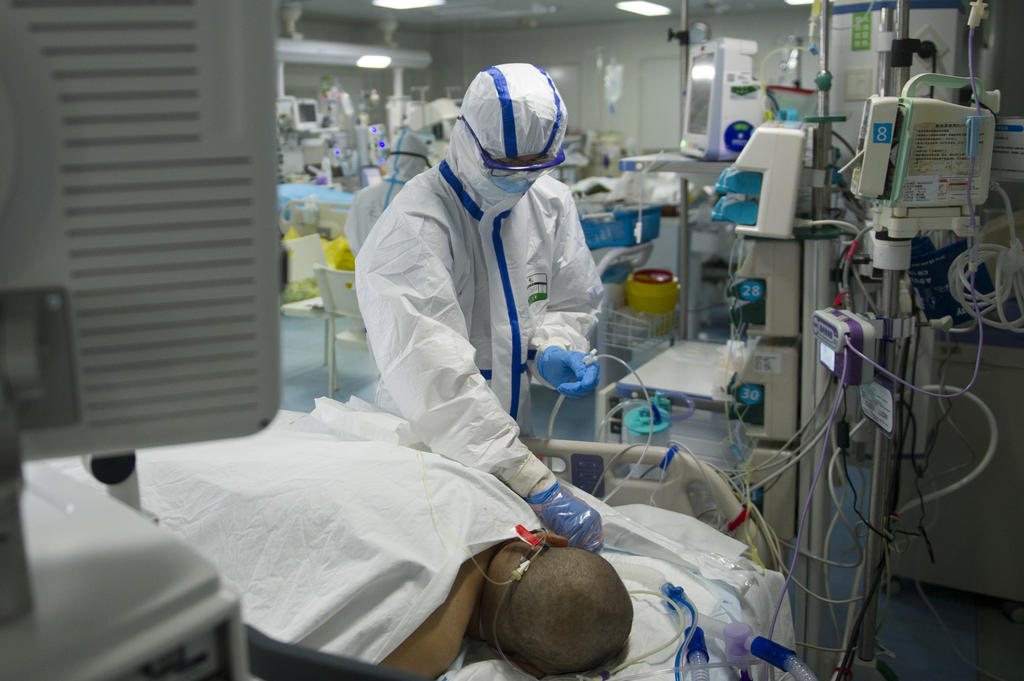Coverall: (352, 57, 602, 490), (344, 130, 427, 258)
Gloves: (530, 479, 605, 552), (534, 345, 602, 397)
Goggles: (477, 155, 569, 186)
with_mask: (492, 160, 543, 191)
